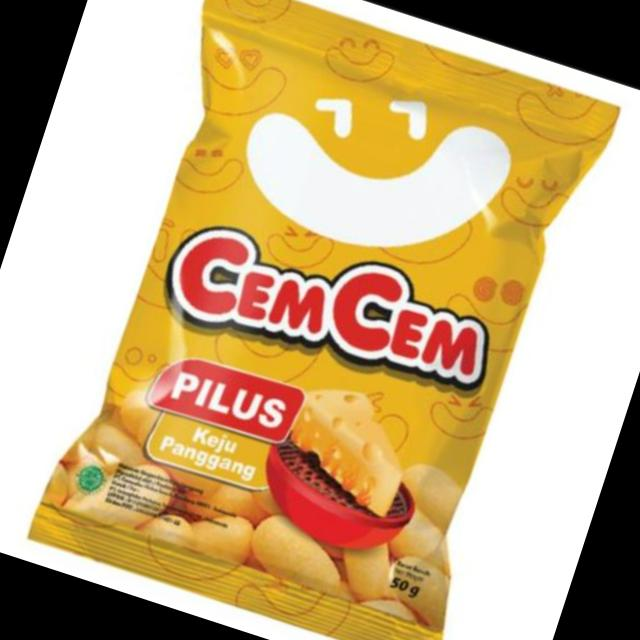KemasanPlastik: (26, 0, 624, 640)
